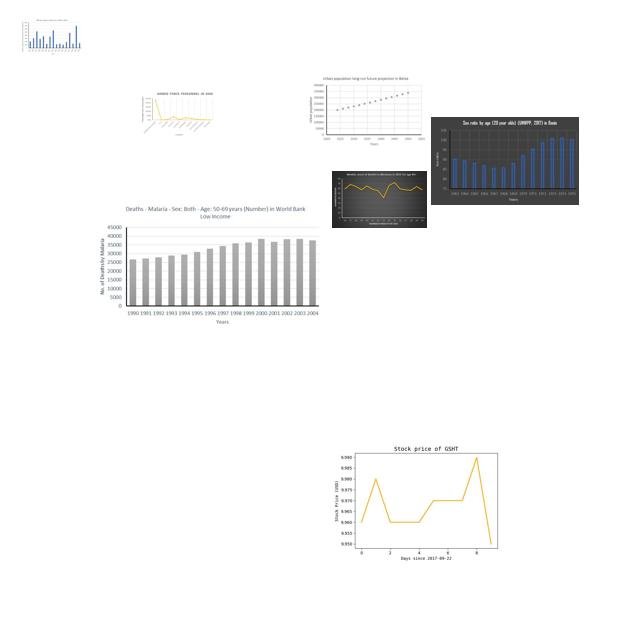Graph: (92, 201, 323, 329), (332, 431, 516, 569), (431, 117, 579, 205), (301, 75, 427, 149), (332, 171, 427, 228), (141, 91, 214, 138), (21, 19, 82, 55)
